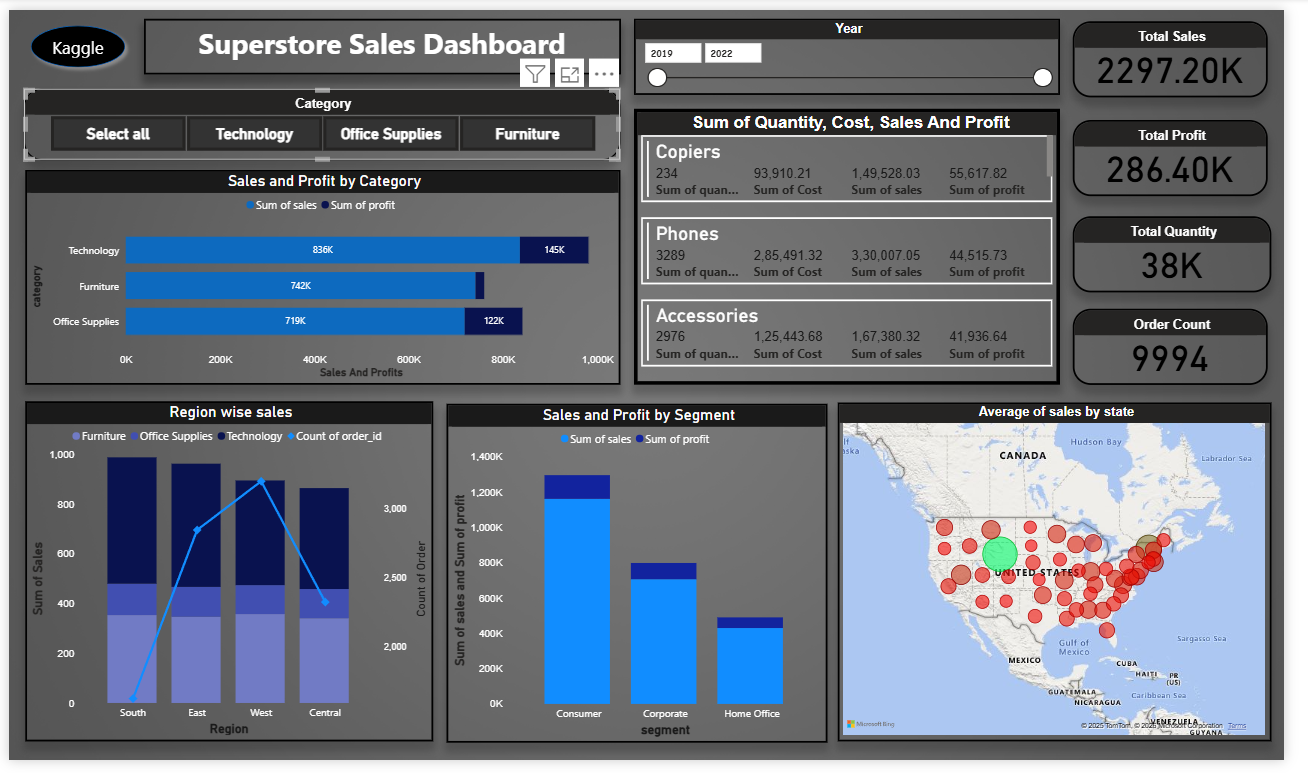

The dashboard page shown, as its layout file describes it:
{"tool":"powerbi","page":{"name":"Main Sales Dashboard","canvas":[1700,1000],"ordinal":0},"visuals":[{"type":"textbox","box":[180,12,636,74],"z":0},{"type":"card","title":"Total Sales","fields":{"Values":["Sum(superstore_dataset.sales)"]},"box":[1418.3,15,260,101.7],"z":1000},{"type":"card","title":"Total Profit","fields":{"Values":["Sum(superstore_dataset.profit)"]},"box":[1418.3,146.7,260,101.7],"z":2000},{"type":"card","title":"Total Quantity","fields":{"Values":["Sum(superstore_dataset.quantity)"]},"box":[1418.3,275,265,101.7],"z":3000},{"type":"slicer","title":"Year","fields":{"Values":["superstore_dataset.order_date.Variation.Date Hierarchy.Year"]},"box":[833.3,11.7,568.3,101.7],"z":4000},{"type":"card","title":"Order Count","fields":{"Values":["CountNonNull(superstore_dataset.order_id)"]},"box":[1418.3,398.3,260,101.7],"z":5000},{"type":"slicer","title":"Category","fields":{"Values":["superstore_dataset.category"]},"box":[20,105,795,95],"z":6000},{"type":"map","fields":{"Size":["Avg(superstore_dataset.sales)"],"Category":["superstore_dataset.state"]},"box":[1105,523.3,578.3,451.7],"z":7000},{"type":"lineStackedColumnComboChart","title":"Region wise sales","fields":{"Category":["superstore_dataset.region"],"Y":["Avg(superstore_dataset.sales)"],"Y2":["CountNonNull(superstore_dataset.order_id)"],"Series":["superstore_dataset.category"]},"box":[21.2,521.2,543.8,453.8],"z":8000},{"type":"columnChart","title":"Sales and Profit by Segment","fields":{"Category":["superstore_dataset.segment"],"Y":["Sum(superstore_dataset.sales)","Sum(superstore_dataset.profit)"]},"box":[583.3,525,508.3,451.7],"z":9000},{"type":"barChart","title":"Sales and Profit by Category","fields":{"Y":["Sum(superstore_dataset.sales)","Sum(superstore_dataset.profit)"],"Category":["superstore_dataset.category"]},"box":[21.7,213.3,793.3,286.7],"z":10000},{"type":"multiRowCard","title":"Sum of Quantity, Cost, Sales And Profit ","fields":{"Values":["superstore_dataset.subcategory","Sum(superstore_dataset.quantity)","Sum(superstore_dataset.Cost)","Sum(superstore_dataset.sales)","Sum(superstore_dataset.profit)"]},"box":[833.3,131.7,568.3,368.3],"z":11000},{"type":"shape","box":[20,12,144,74],"z":12000}]}

Visuals, with their boxes in screenshot pixels (x1, y1, x2, y2), scaled from the page's 1700x1000 canvas onto the 1308x773 screenshot:
textbox: detection(138, 9, 628, 66)
"Total Sales" card: detection(1091, 12, 1291, 90)
"Total Profit" card: detection(1091, 113, 1291, 192)
"Total Quantity" card: detection(1091, 213, 1295, 291)
"Year" slicer: detection(641, 9, 1078, 88)
"Order Count" card: detection(1091, 308, 1291, 386)
"Category" slicer: detection(15, 81, 627, 155)
map - Avg(superstore_dataset.sales) x superstore_dataset.state: detection(850, 405, 1295, 754)
"Region wise sales" lineStackedColumnComboChart: detection(16, 403, 435, 754)
"Sales and Profit by Segment" columnChart: detection(449, 406, 840, 755)
"Sales and Profit by Category" barChart: detection(17, 165, 627, 386)
"Sum of Quantity, Cost, Sales And Profit " multiRowCard: detection(641, 102, 1078, 386)
shape: detection(15, 9, 126, 66)
